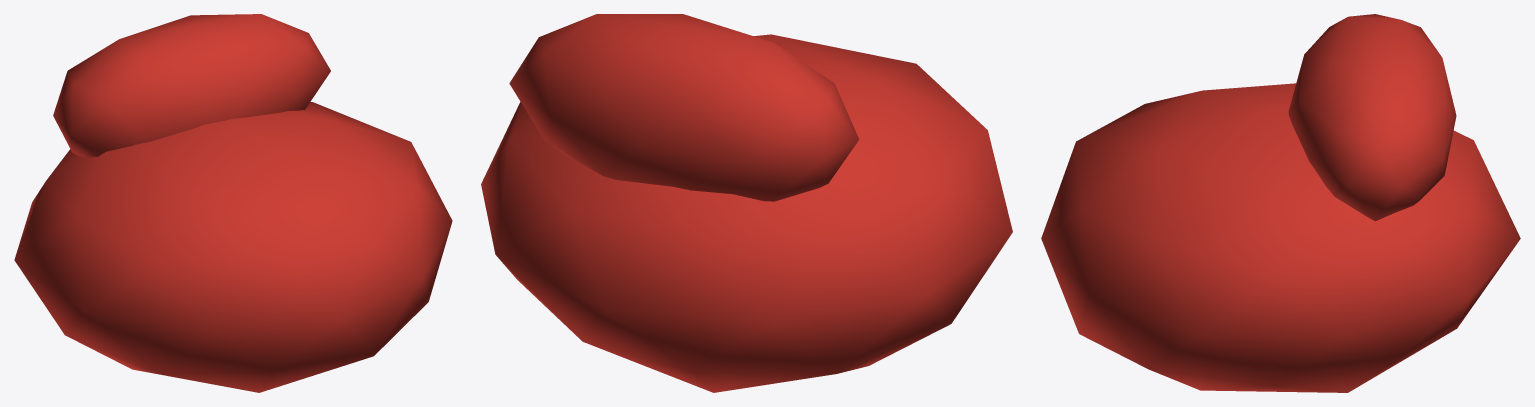
Rendered from BeanBag.fbx.
3 renders of one model, left to right at view 1: azimuth 30°, elevation 25°; view 2: azimuth 150°, elevation 25°; view 3: azimuth 270°, elevation 25°, orthographic. The views are drawn at different scales.
Parts seen in each view (by area): view 1: BeanBagBody; view 2: BeanBagBody; view 3: BeanBagBody.
Part boxes in pixels (x1=…): BeanBagBody: x1=14, y1=14, x2=452, y2=392; BeanBagBody: x1=481, y1=14, x2=1012, y2=392; BeanBagBody: x1=1041, y1=14, x2=1520, y2=392.
Bounding box in the file's own units: 0.8243 × 0.632 × 0.8493.
